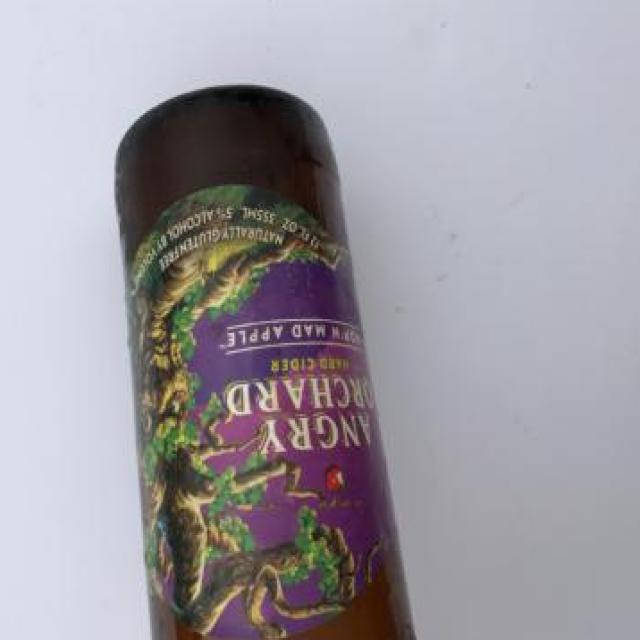organic: (103, 69, 430, 637)
